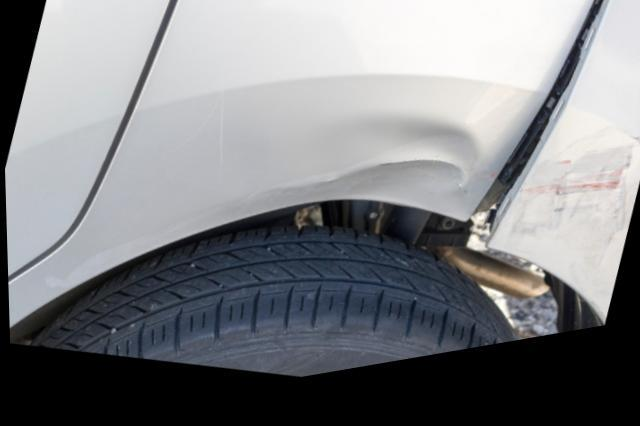dent: (312, 127, 476, 216)
scratch: (513, 138, 640, 274)
